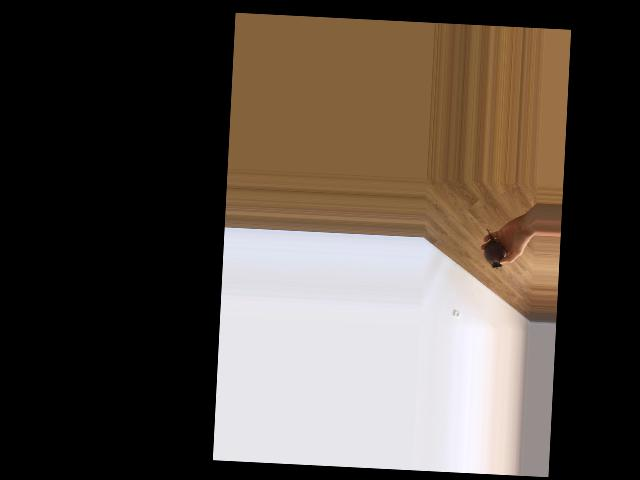beet: (482, 229, 507, 268)
